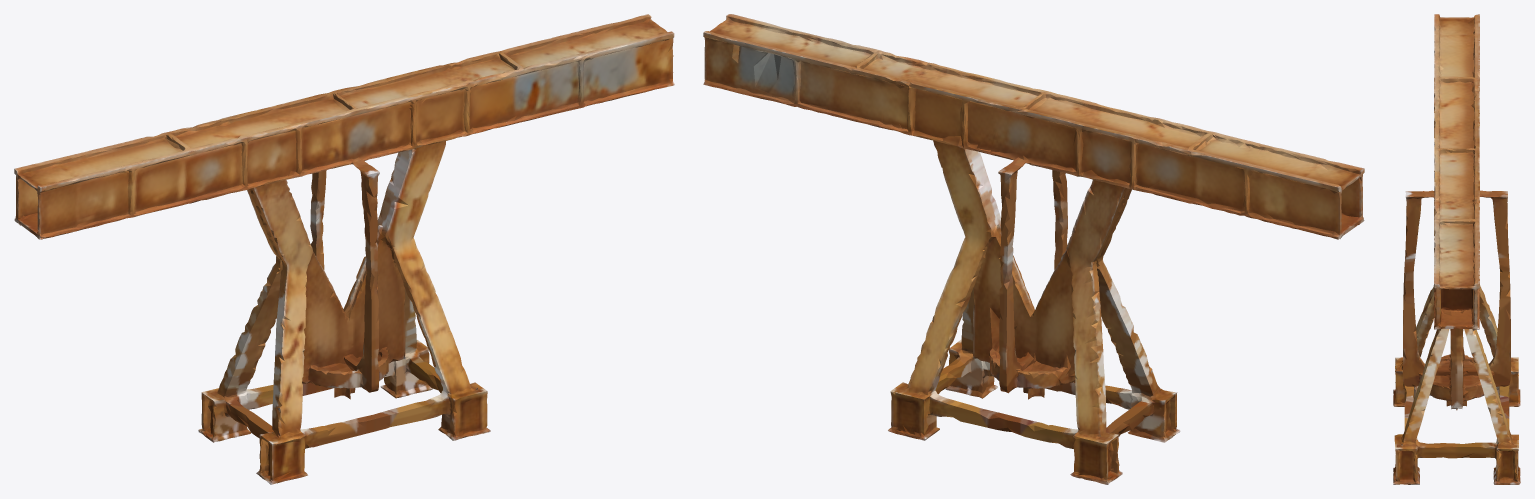
File: golem_wing_L.glb
3 renders of one model, left to right at view 1: azimuth 30°, elevation 25°; view 2: azimuth 150°, elevation 25°; view 3: azimuth 270°, elevation 25°, orthographic. The views are drawn at different scales.
Parts seen in each view (by area): view 1: golem_wing_L; view 2: golem_wing_L; view 3: golem_wing_L.
Part boxes in pixels (bbox=[...]): golem_wing_L: bbox=[14, 14, 674, 484]; golem_wing_L: bbox=[703, 14, 1364, 484]; golem_wing_L: bbox=[1393, 14, 1520, 484].
Size of the model in its own units: 1.89 by 0.9466 by 0.3768.
1 material, 1 textured.
